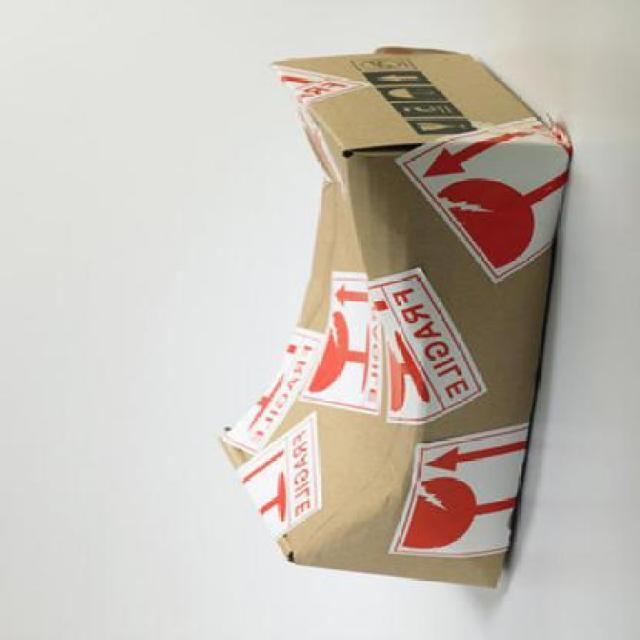Kardus kondisi rusak: (219, 49, 574, 587)
